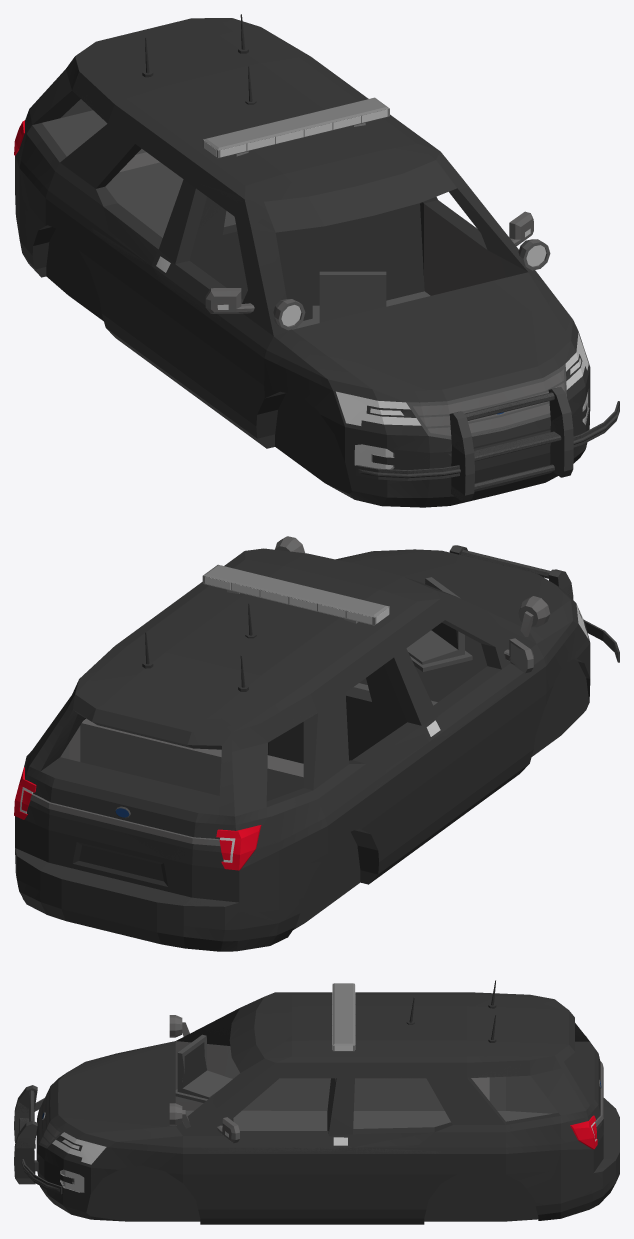
The picture shows the model from 3 angles, top to bottom: view 1: azimuth 30°, elevation 25°; view 2: azimuth 150°, elevation 25°; view 3: azimuth 270°, elevation 25°; orthographic projection. The views are drawn at different scales.
Parts seen in each view (by area): view 1: Model_0, Model_1, Headlights, Siren_Red, Siren_Blue; view 2: Model_0, Model_1, Taillights, Siren_Red, Siren_Blue; view 3: Model_0, Model_1, Headlights, Siren_Blue, Taillights.
Part boxes in pixels (bbox=[...]): Model_0: bbox=[15, 14, 619, 507]; Model_1: bbox=[15, 73, 619, 500]; Headlights: bbox=[275, 123, 588, 425]; Siren_Red: bbox=[156, 116, 530, 469]; Siren_Blue: bbox=[204, 109, 587, 423]; Model_0: bbox=[15, 536, 619, 951]; Model_1: bbox=[16, 546, 619, 942]; Taillights: bbox=[14, 767, 261, 870]; Siren_Red: bbox=[20, 583, 580, 813]; Siren_Blue: bbox=[205, 576, 388, 862]; Model_0: bbox=[14, 980, 619, 1224]; Model_1: bbox=[15, 983, 619, 1221]; Headlights: bbox=[52, 1005, 332, 1164]; Siren_Blue: bbox=[62, 994, 355, 1192]; Taillights: bbox=[570, 1115, 597, 1149].
Size of the model in its own units: 343 by 246 by 744.
